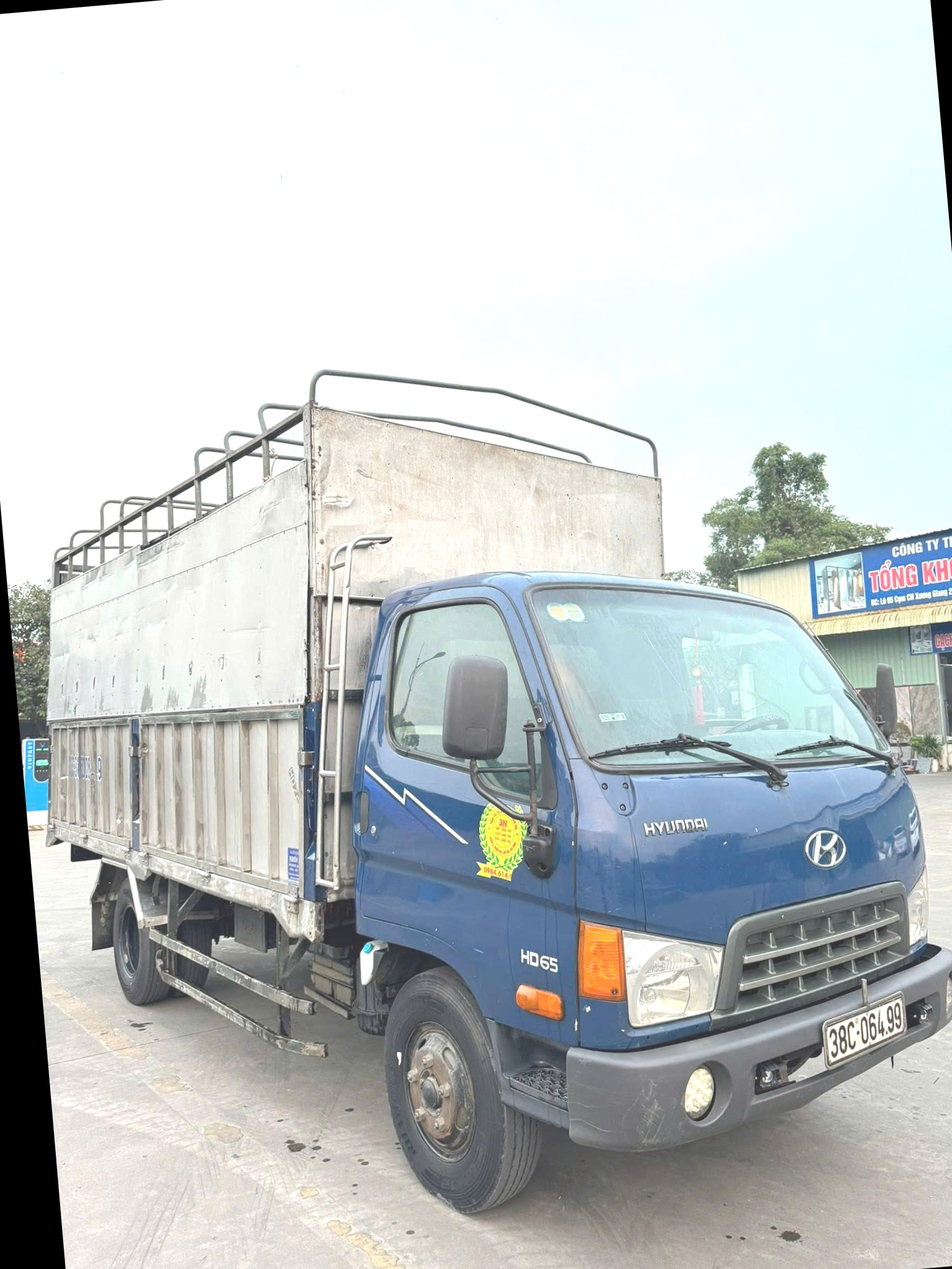Bien-so: (764, 1006, 852, 1077)
